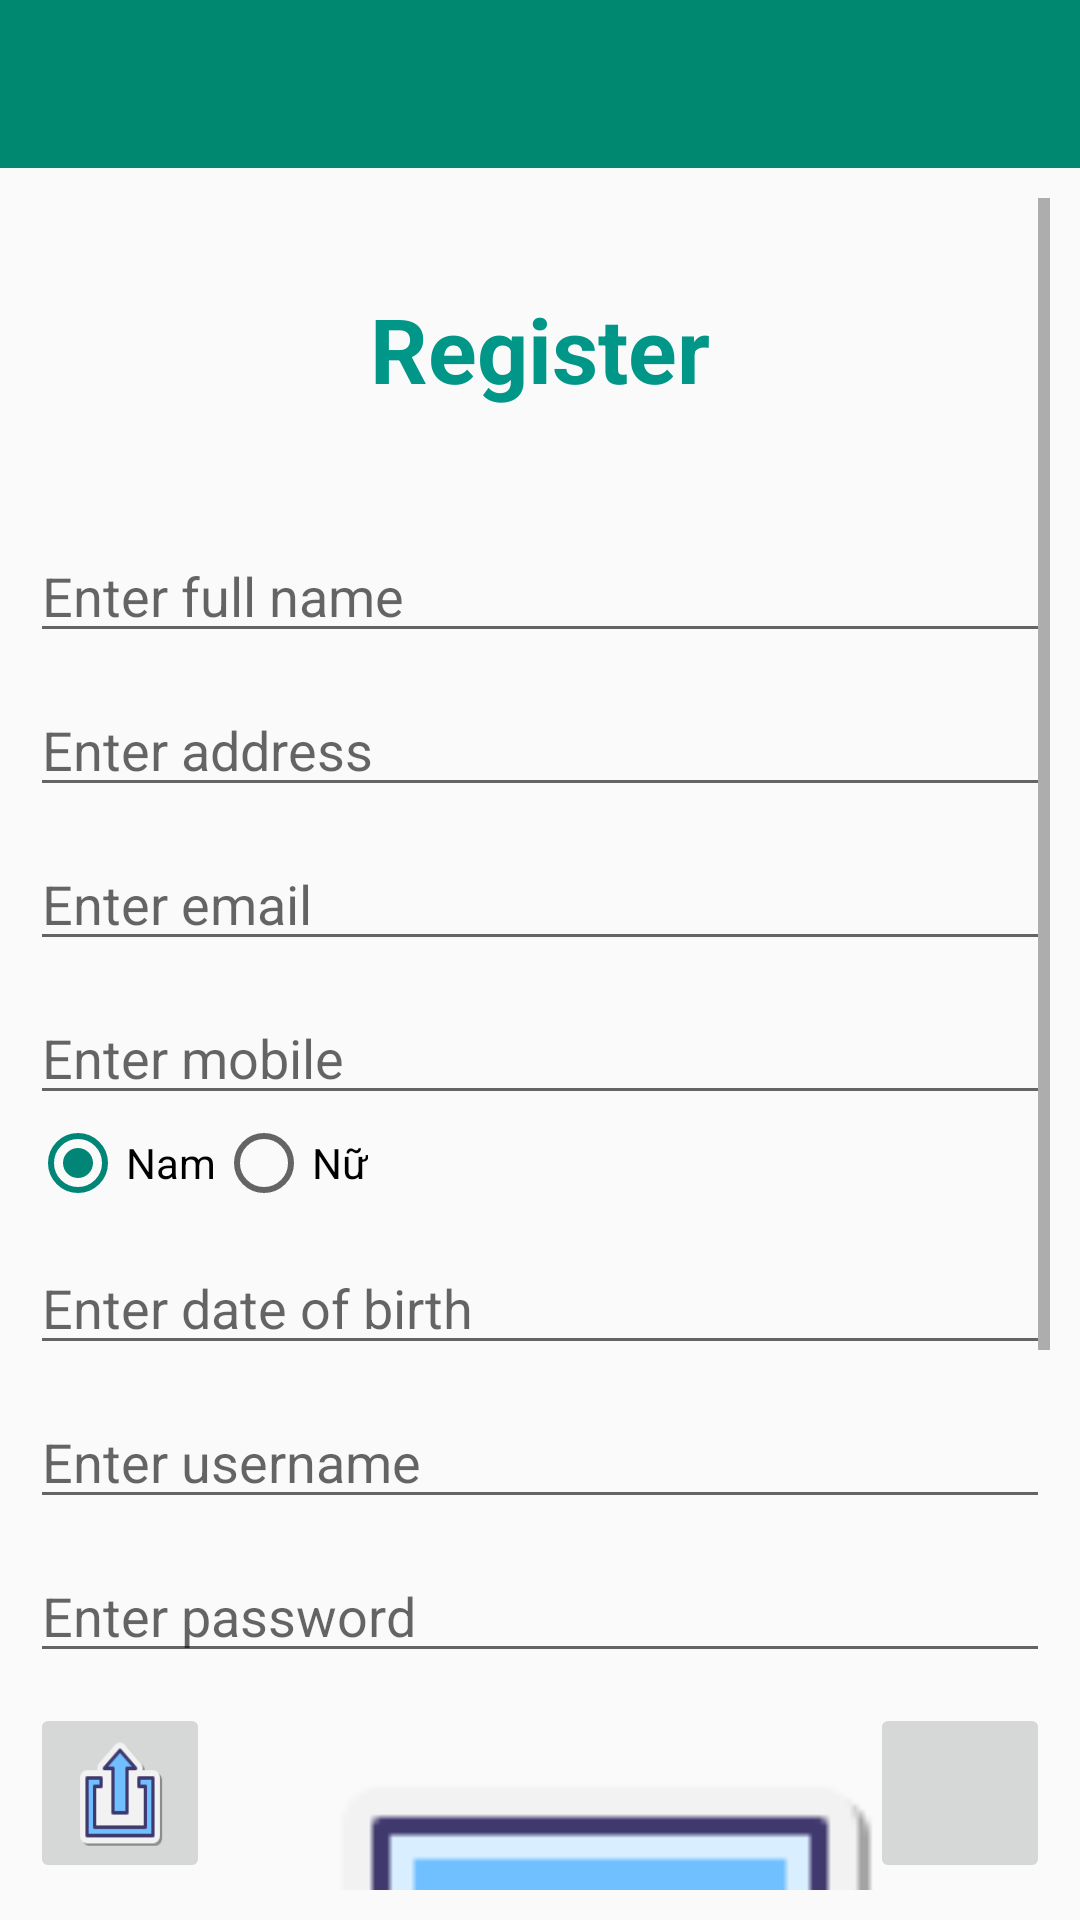

Named icons in this screenshot (1080w x 1920h) and their bounding boxes, (x1,y1,x2,y2):
upload: (42,1721,198,1865)
